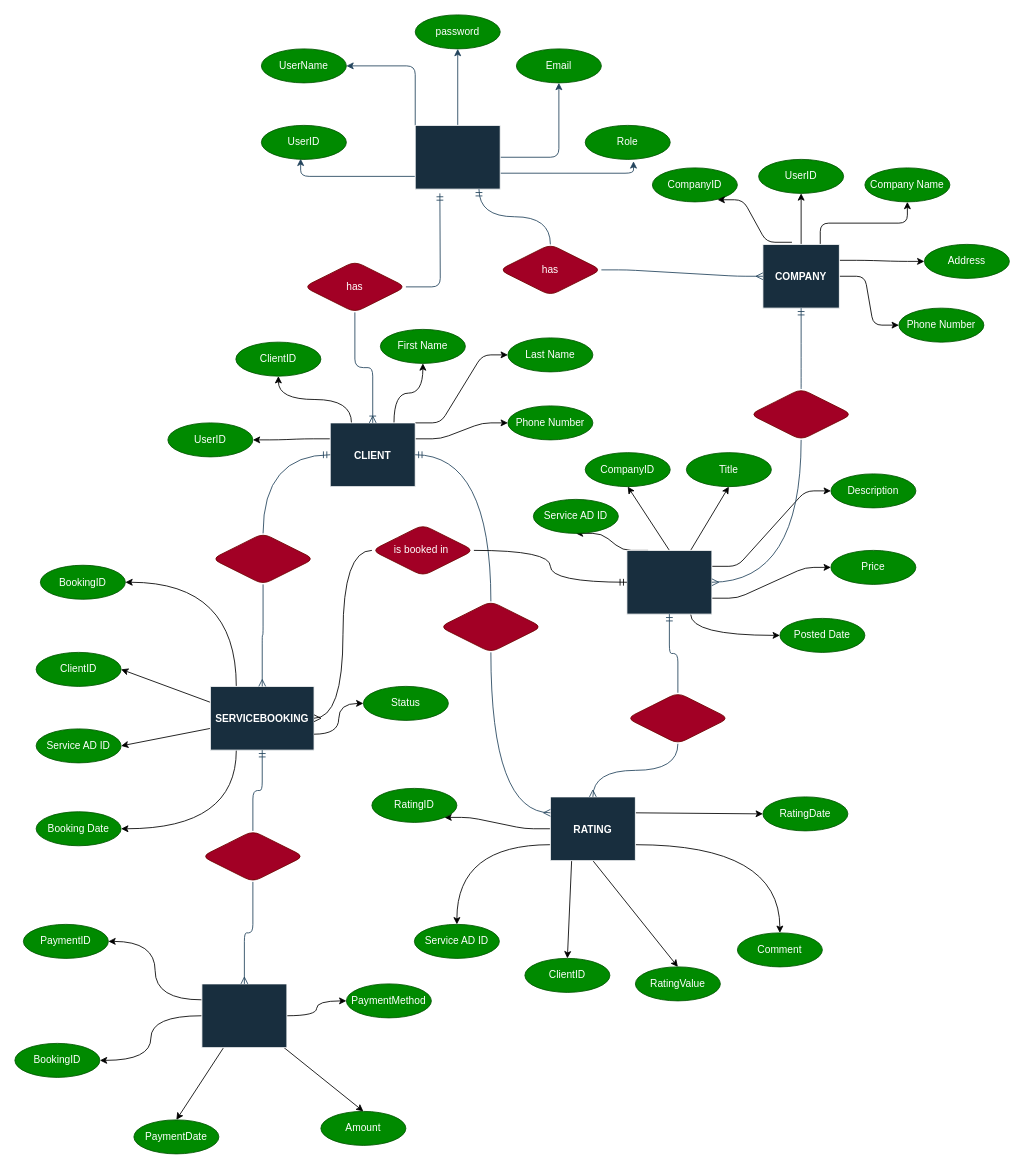
This 1024x1169 diagram has some shape labels left out. The shapes that lost their labels are listed below. From the top down, each one's box as (x1, y1, x2, y2) in pixels, then its label:
(414, 125, 500, 189): USER
(749, 388, 852, 440): Posts
(211, 533, 314, 584): Books
(626, 550, 712, 614): SERVICEAD
(439, 601, 542, 652): Rates
(626, 692, 729, 744): is Rated by
(201, 830, 304, 882): Relationship
(201, 983, 287, 1048): PAYMENT
